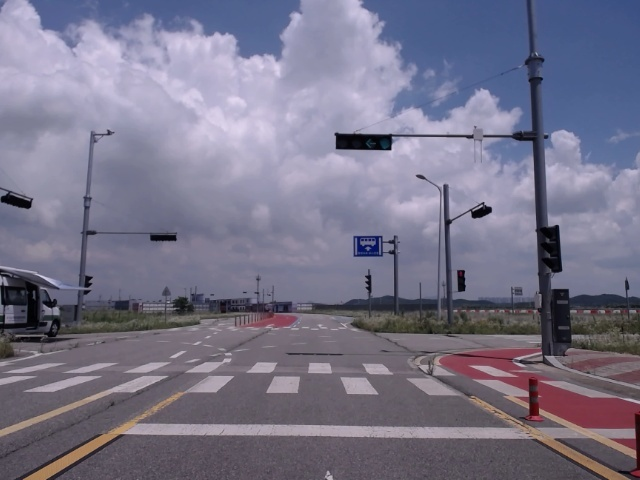all_green_4: (334, 133, 393, 152)
